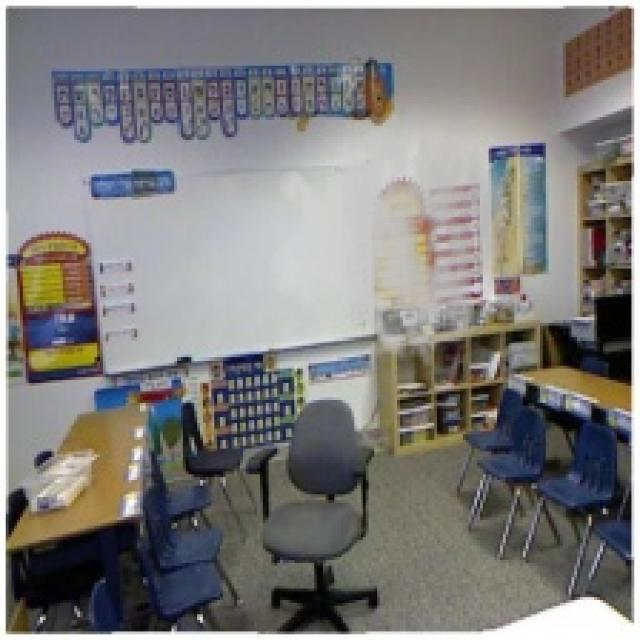smoke: (268, 92, 512, 368)
